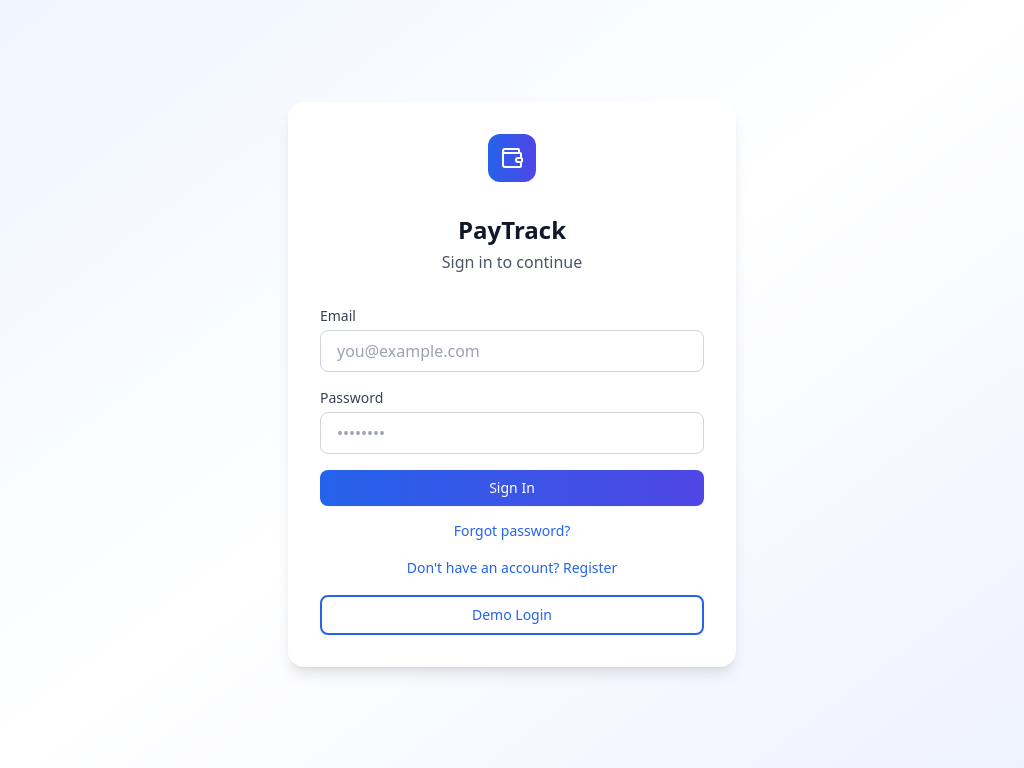
Test case: LoginPage — sign-in flow › surfaces 401 errors with a generic message and does not redirect
The image size is (1024, 768).
Type "qa@x.com" into the field labelled "Email" at (512, 350), box [320, 330, 704, 372]
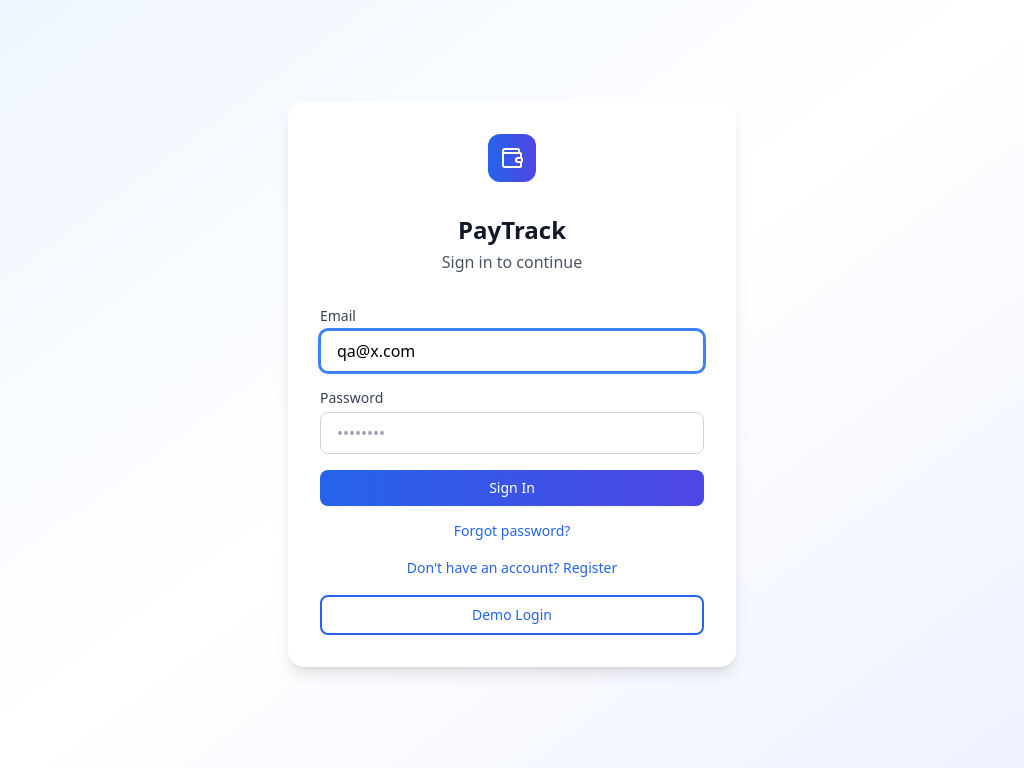
Type "wrong-password" into the password field labelled "Password" at (512, 432), box [320, 412, 704, 454]
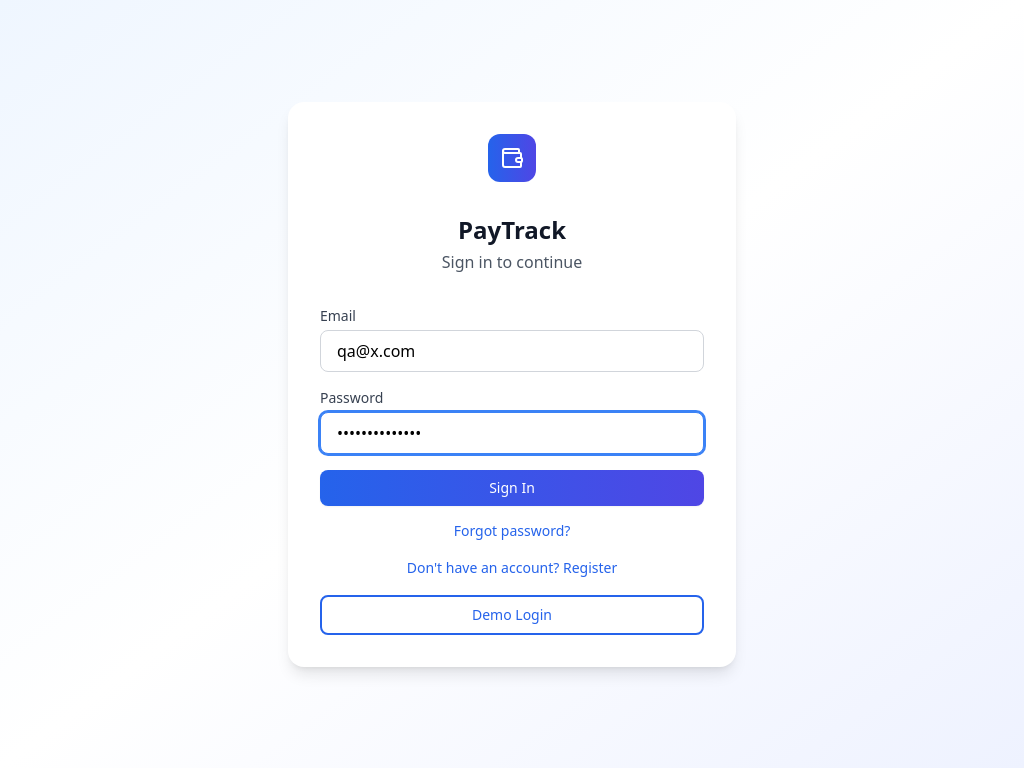
Click the button "Sign In" at (512, 488), box [320, 470, 704, 506]
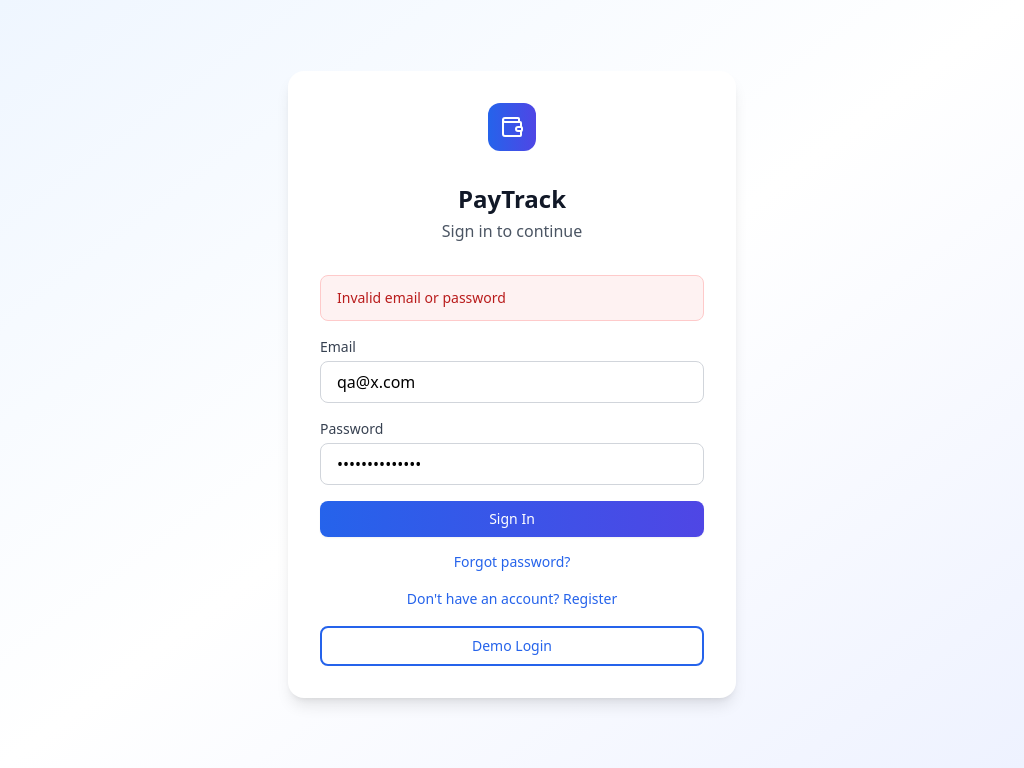
Expected: the message reads "Invalid email or password", [337, 288, 506, 306]
